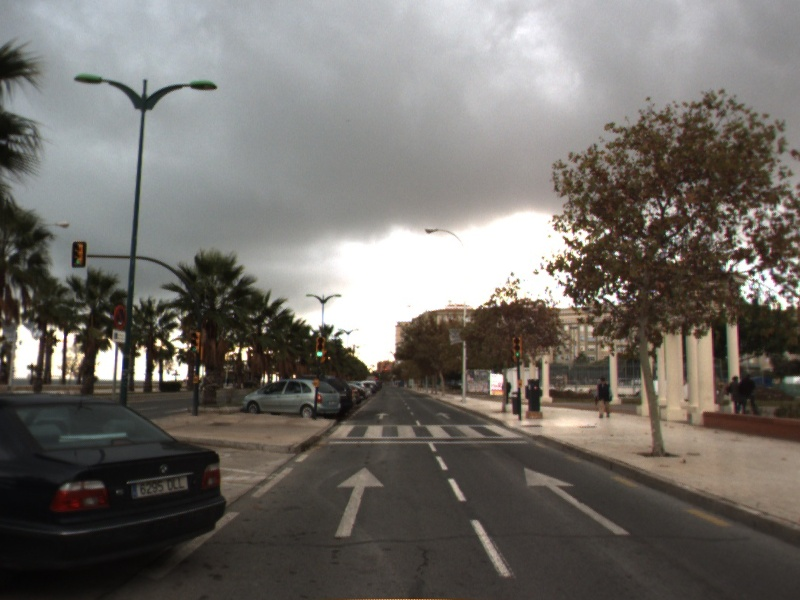STRAIGHT: (523, 466, 633, 537), (333, 466, 386, 539), (434, 410, 453, 421), (374, 411, 391, 421)
